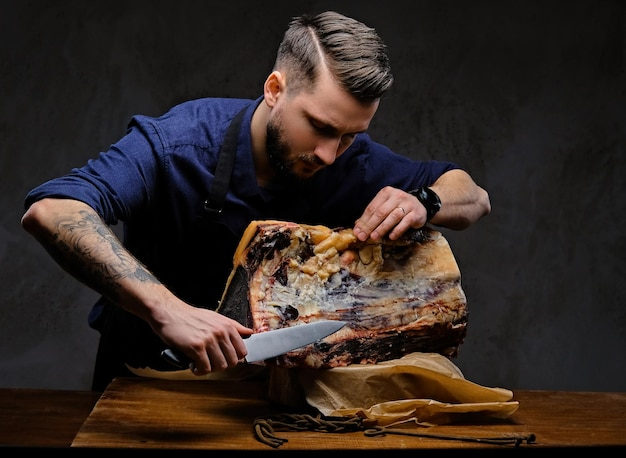knife: (237, 319, 350, 363)
